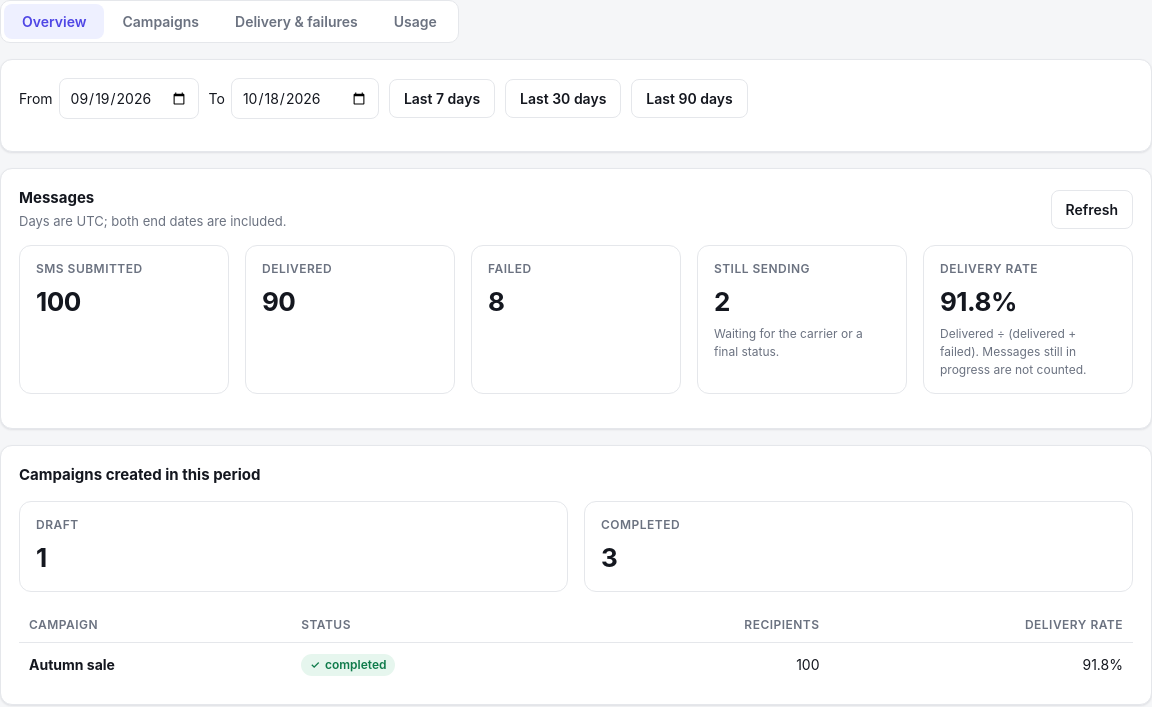
Test: reports — navigation and range › 3/4 date range defaults to 30 UTC days and validates order and length before any request
The width and height of the screenshot is (1152, 707).
Expected: the text "SMS submitted" is shown, [36,261,143,276]
Clear the date field labelled "To" at (305, 98), box [231,78,379,119]
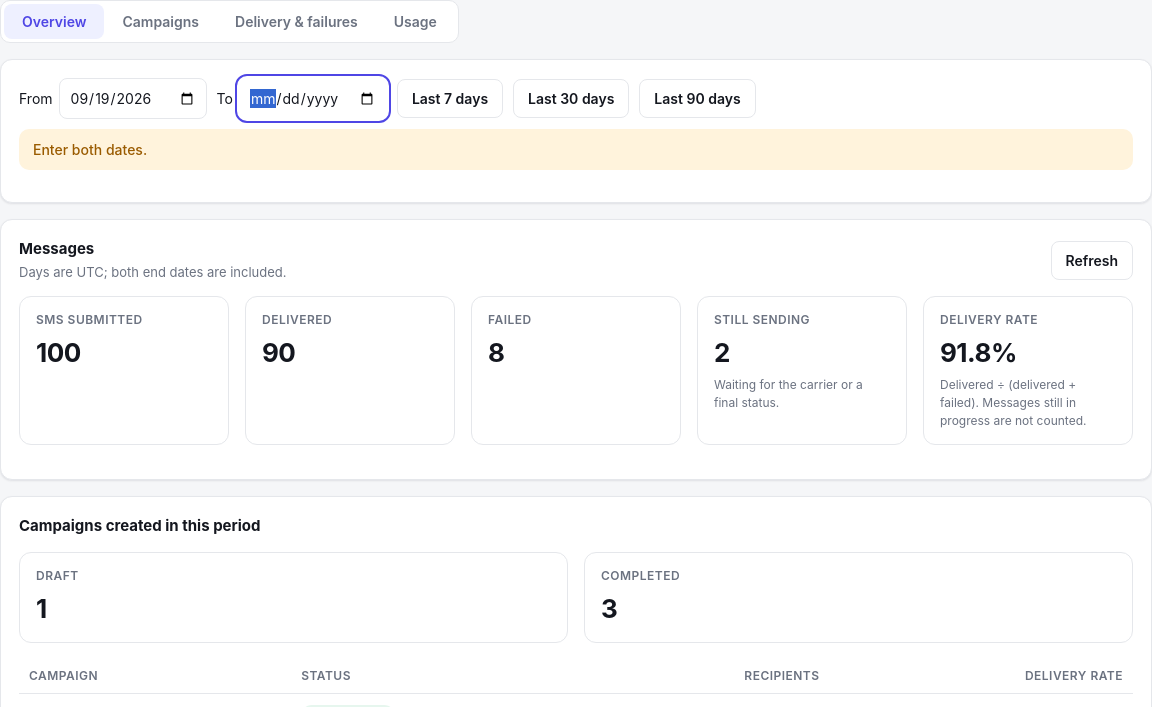
Type "2020-01-01" into the date field labelled "To".
click(313, 98); type("2020-01-01")  # box [239,78,387,119]
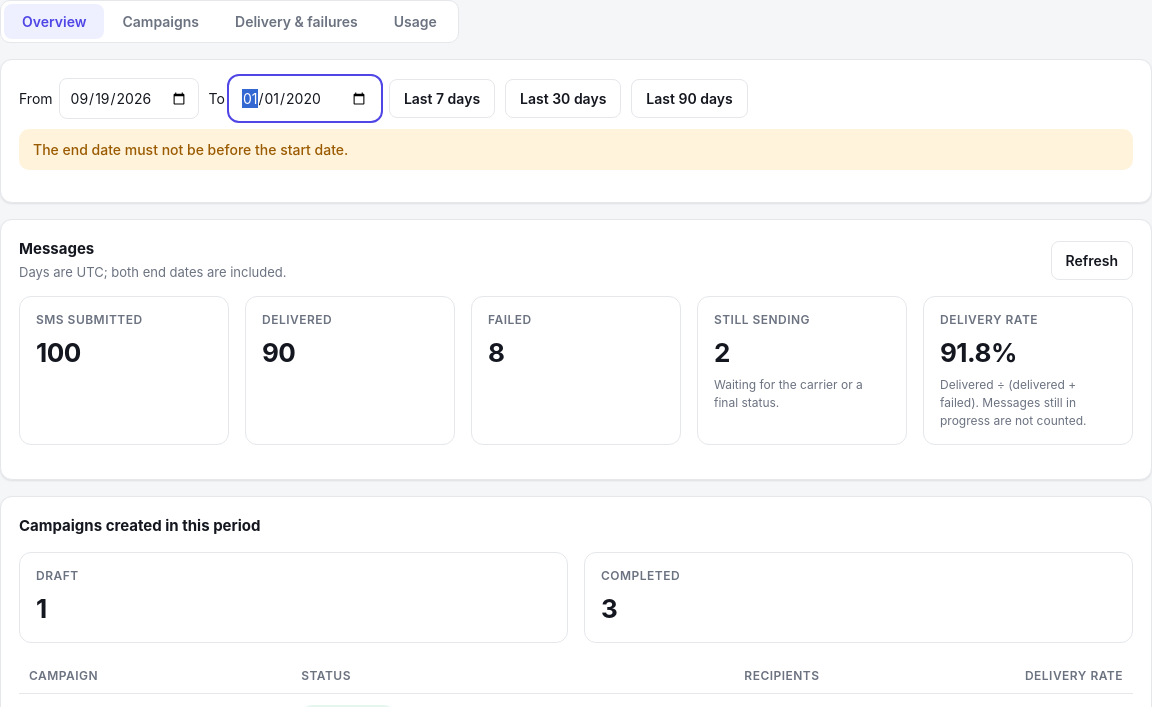
Expected: the text "The end date must not be before the start date." is shown, [33,139,348,160]
